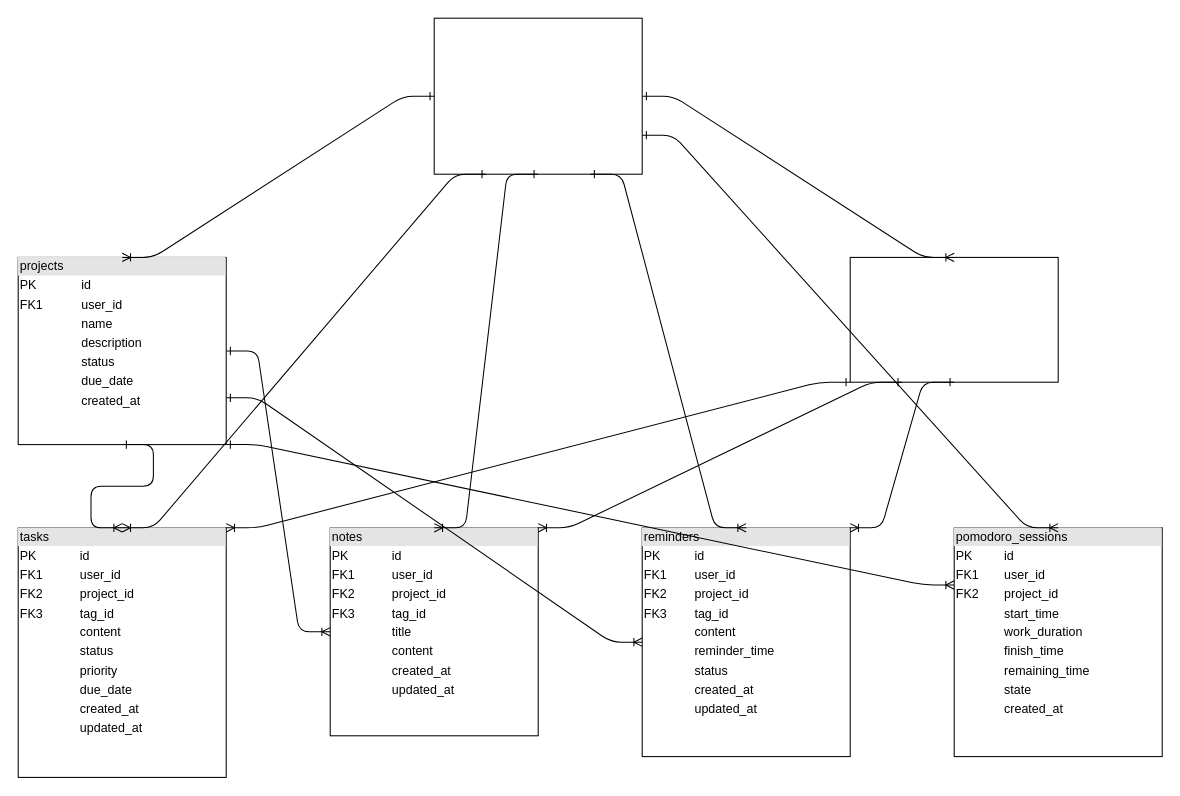
Some shapes in this 1180 by 796 pixel diagram are drawn without their labels. The shapes that lost their labels are listed below. From the top down, each one's box as (x1, y1, x2, y2) in pixels, then its label:
(433, 17, 642, 174): users PK id telegram_id telegram_chat_id username created_at
(849, 256, 1058, 382): tags PK id FK1 user_id name color created_at
